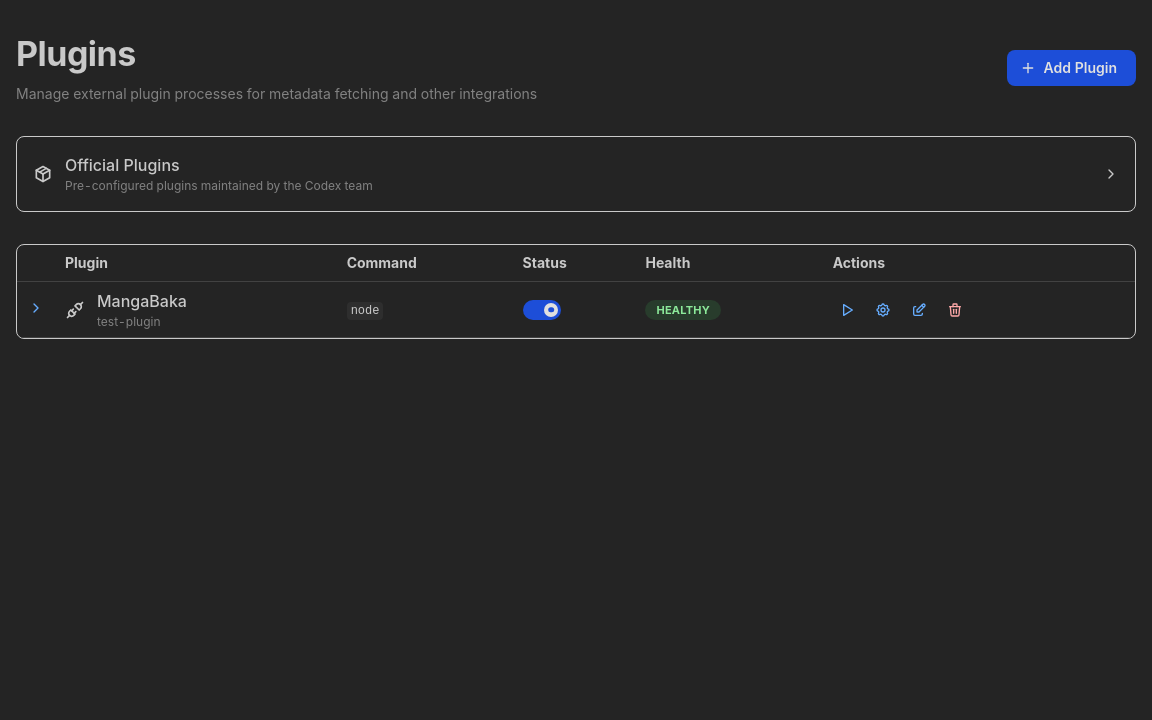
it: PluginsSettings - delete confirmation › opens delete modal when trash icon is clicked
Expected: the text "MangaBaka" is shown, [97,289,187,314]
# Click the delete button (trash icon)
Click the button without text in the row of "MangaBaka" at (955, 310), box [941,296,969,324]
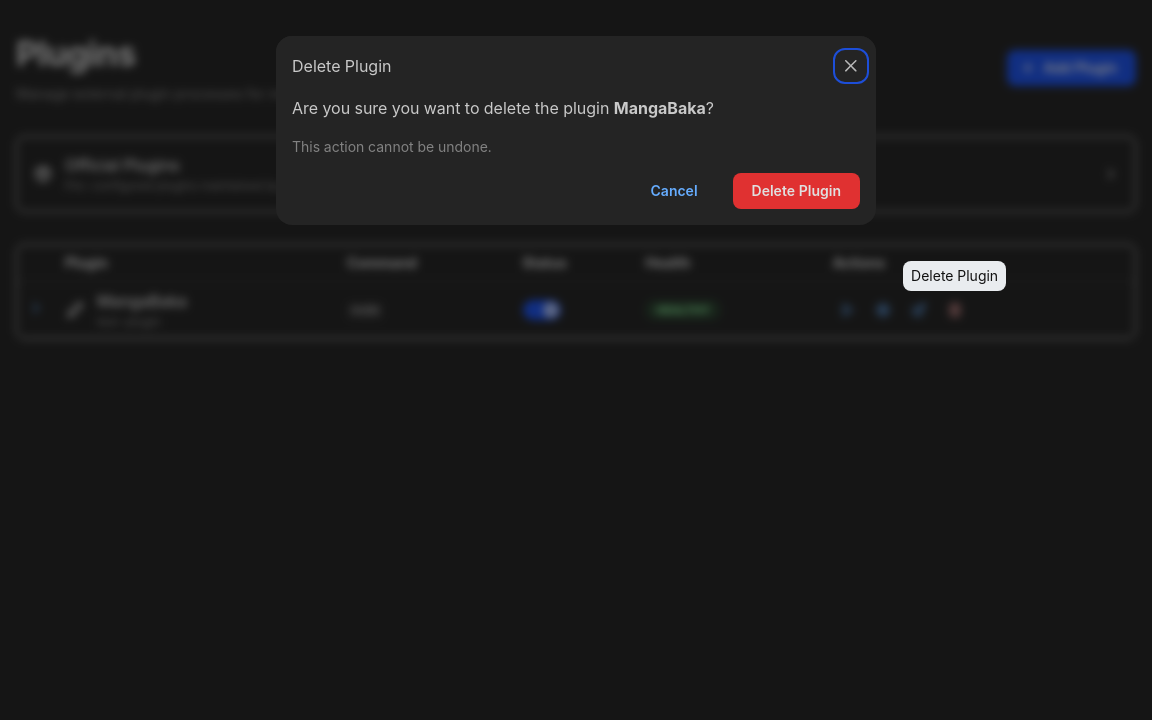
Now the text "Are you sure you want to delete the plugin MangaBaka?" is shown, box [292,98,714,118]
Now the text "This action cannot be undone." is shown, box [292,138,492,155]
